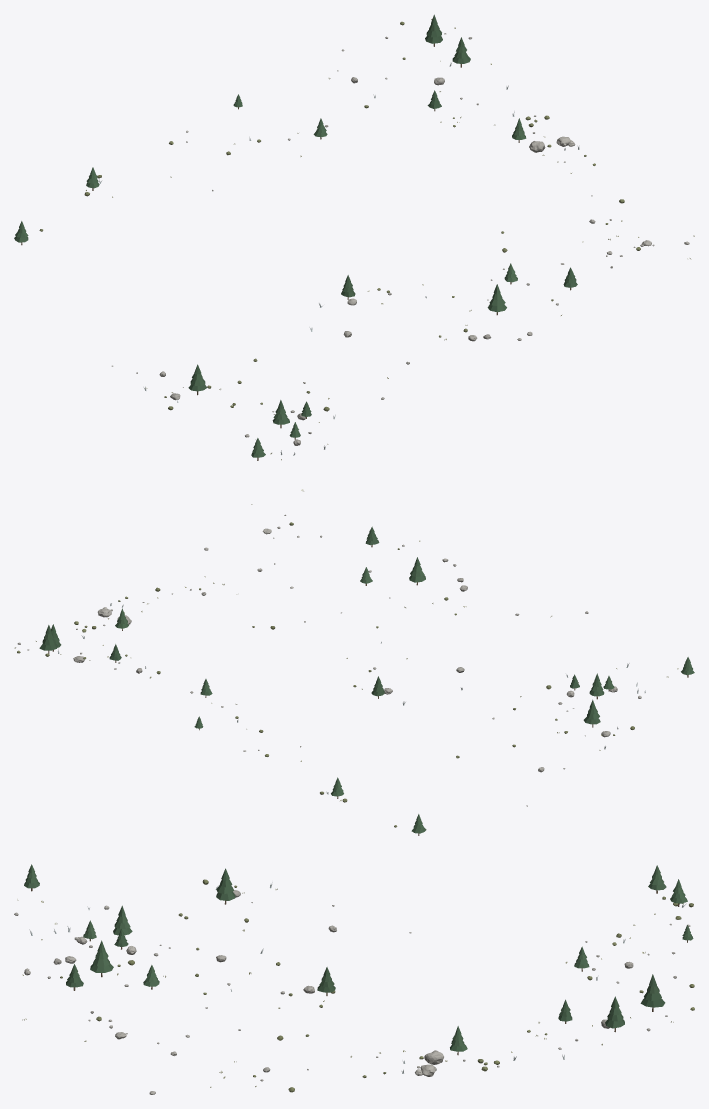
File: coast_land_scatter_c10_16.glb
3 renders of one model, top to bottom at view 1: azimuth 30°, elevation 25°; view 2: azimuth 150°, elevation 25°; view 3: azimuth 270°, elevation 25°, orthographic. The views are drawn at different scales.
Visible parts, largest first — view 1: coast_land_scatter_c10_16; view 2: coast_land_scatter_c10_16; view 3: coast_land_scatter_c10_16.
Part boxes in pixels (x1=…): coast_land_scatter_c10_16: x1=14, y1=14, x2=694, y2=460; coast_land_scatter_c10_16: x1=14, y1=489, x2=694, y2=835; coast_land_scatter_c10_16: x1=14, y1=864, x2=694, y2=1094.
Size of the model in its own units: 256 by 84.43 by 257.
